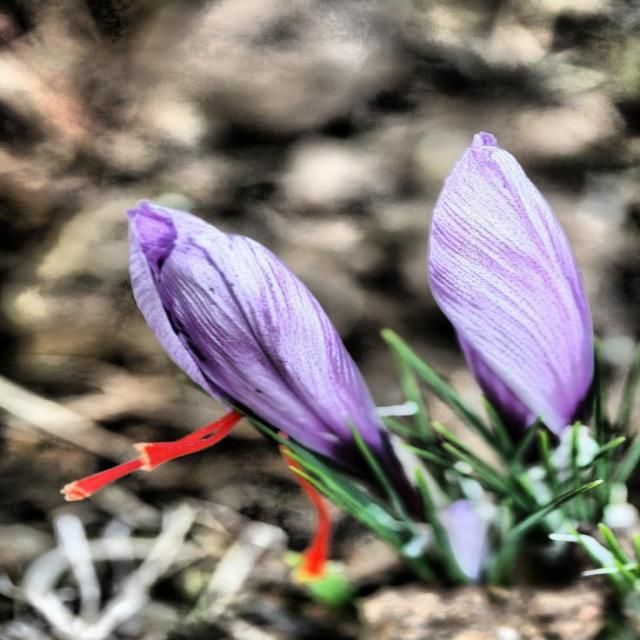Flower: (122, 196, 424, 522), (423, 118, 606, 446)
stigma: (52, 414, 237, 506), (273, 444, 337, 580), (131, 417, 241, 476)
